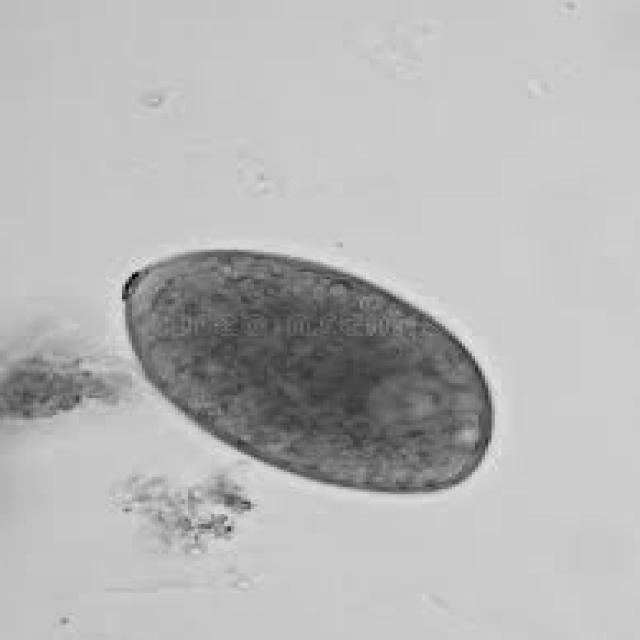Fasciola Hepatica: (117, 246, 500, 500)
